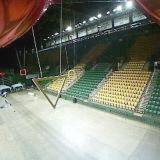Orange_Square_GShape: (19, 68, 26, 76)
Yellow_Circle_GShape: (68, 69, 76, 80)
Yellow_Triangle_Gshape: (32, 75, 67, 109)
